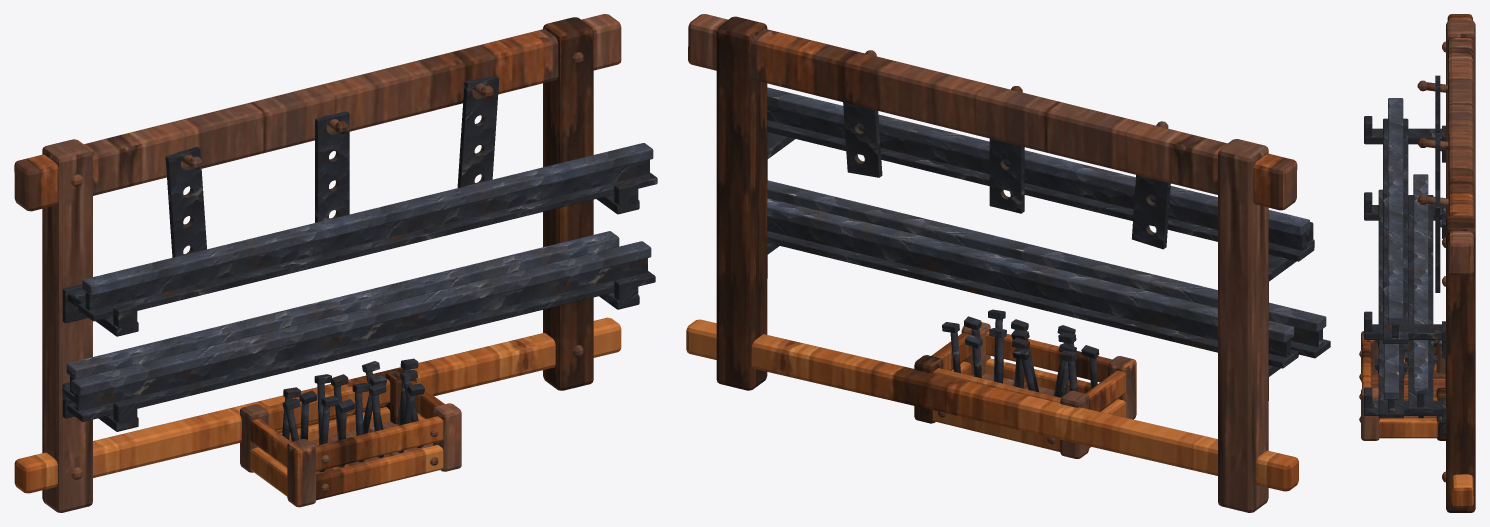
File: lw_spare_rail_rack.glb
3 renders of one model, left to right at view 1: azimuth 30°, elevation 25°; view 2: azimuth 150°, elevation 25°; view 3: azimuth 270°, elevation 25°, orthographic. The views are drawn at different scales.
Parts seen in each view (by area): view 1: model; view 2: model; view 3: model.
Boxes of the visible parts, left/top/right/bottom form: model: left=14, top=14, right=657, bottom=512; model: left=686, top=14, right=1330, bottom=512; model: left=1359, top=14, right=1475, bottom=512.
Bounding box in the file's own units: 1.32 × 0.75 × 0.276.
Materials: 9 (8 with a texture image).
